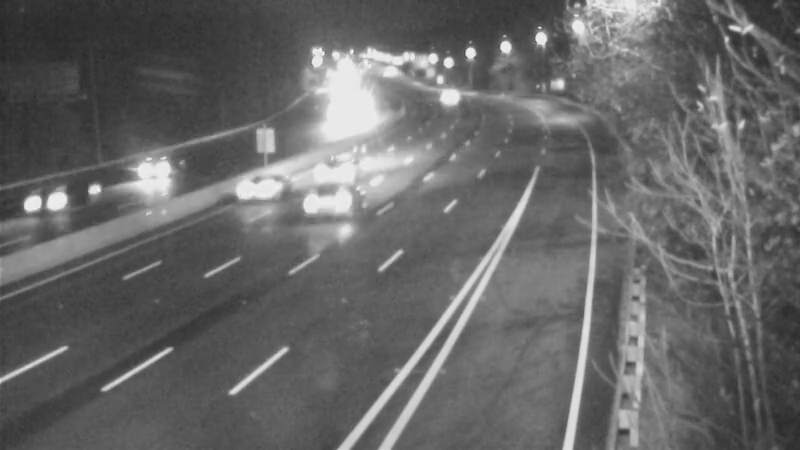vehicle: (291, 133, 371, 213), (216, 152, 296, 232), (276, 164, 356, 244), (18, 155, 98, 235), (110, 124, 190, 204), (412, 68, 462, 118)
